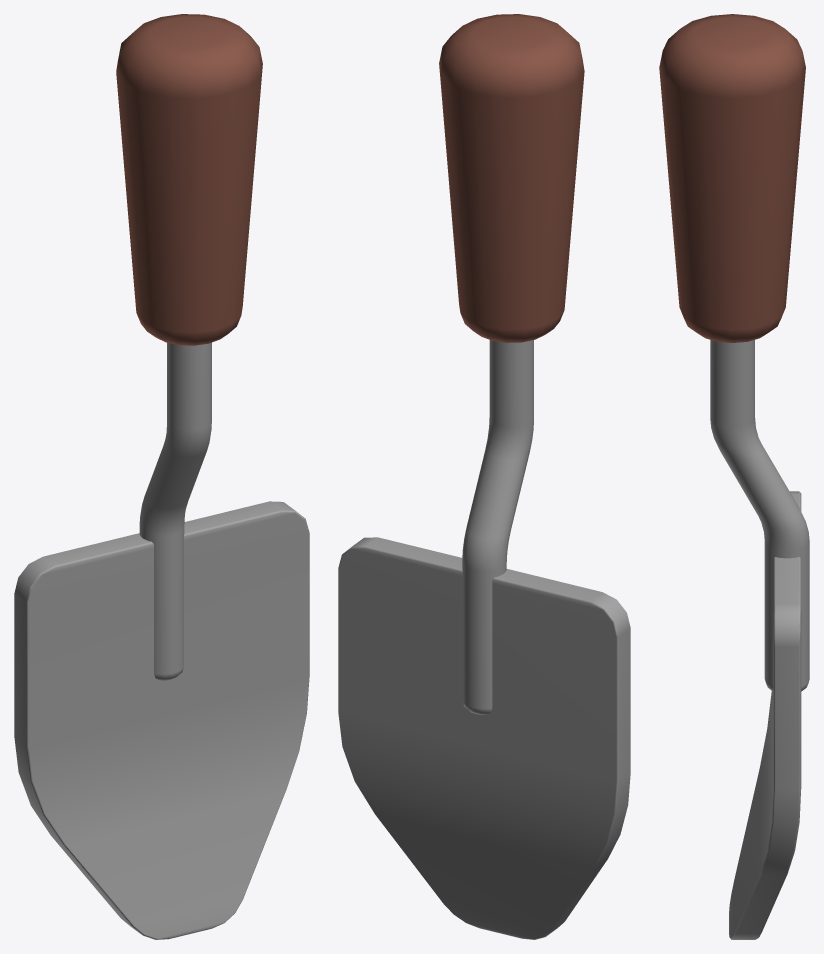
The model's file is Farm_15_Shovel_1.glb.
The picture shows the model from 3 angles, left to right: view 1: azimuth 30°, elevation 25°; view 2: azimuth 150°, elevation 25°; view 3: azimuth 270°, elevation 25°; orthographic projection.
Parts seen in each view (by area): view 1: Farm_15_Shovel_1; view 2: Farm_15_Shovel_1; view 3: Farm_15_Shovel_1.
Boxes of the visible parts, box(x1,y1,x2,y2) form: Farm_15_Shovel_1: box(14, 14, 309, 939); Farm_15_Shovel_1: box(338, 14, 630, 939); Farm_15_Shovel_1: box(659, 14, 809, 939).
Bounding box in the file's own units: 0.1929 × 0.5856 × 0.0895.
Materials: 1 (1 with a texture image).
